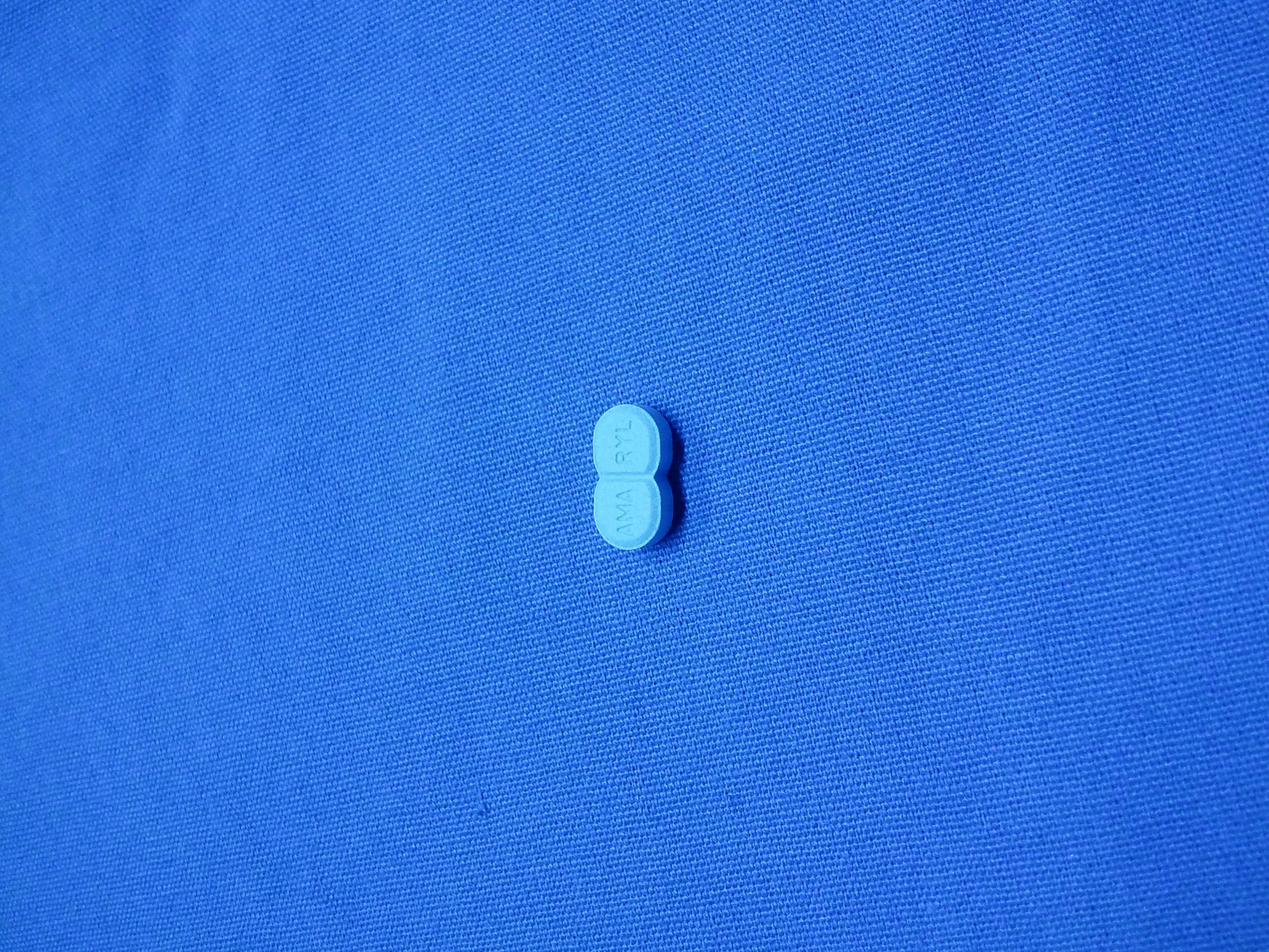Pill: (578, 378, 688, 574)
